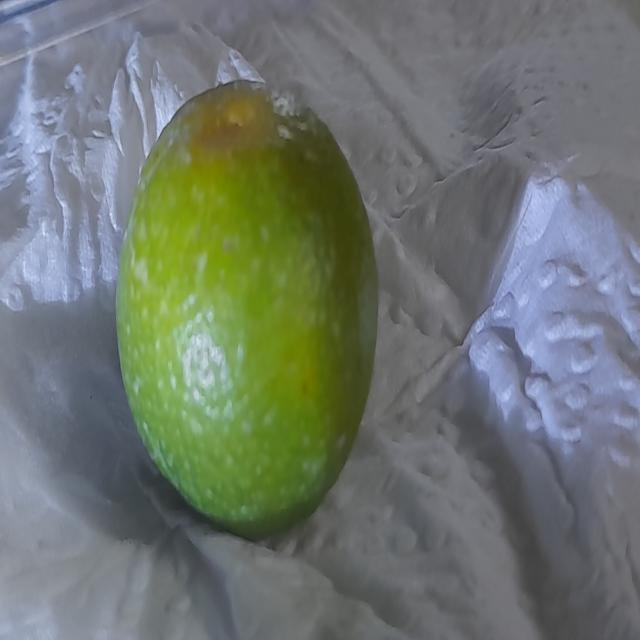greening: (111, 77, 381, 556)
